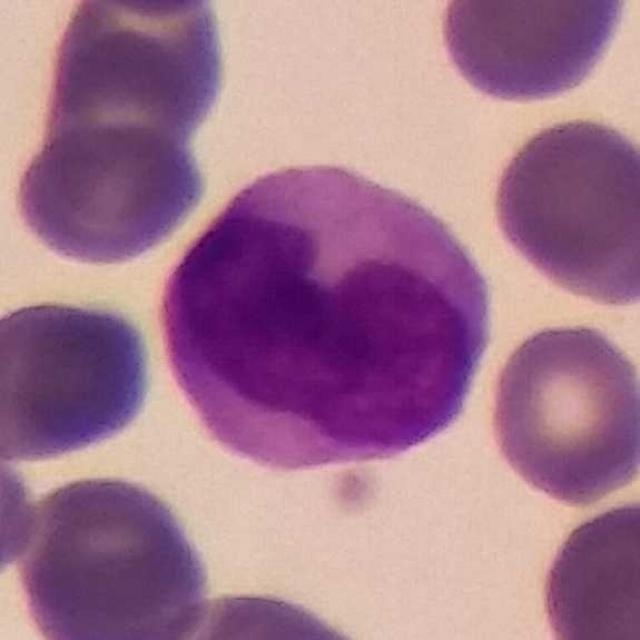Monocyte: (149, 138, 507, 490)
Platelets: (322, 456, 391, 527)
RBC: (9, 465, 218, 640), (6, 116, 212, 270), (484, 110, 640, 312), (481, 315, 640, 508), (0, 287, 161, 467), (46, 5, 240, 150), (432, 0, 638, 109), (531, 493, 640, 640), (157, 582, 390, 640), (0, 420, 43, 592)
